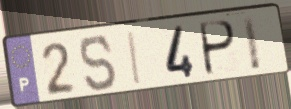2: (40, 41, 78, 98)
4: (163, 23, 200, 83)
I: (240, 14, 264, 74), (126, 29, 144, 88)
P: (199, 19, 238, 79)
S: (77, 34, 119, 94)
